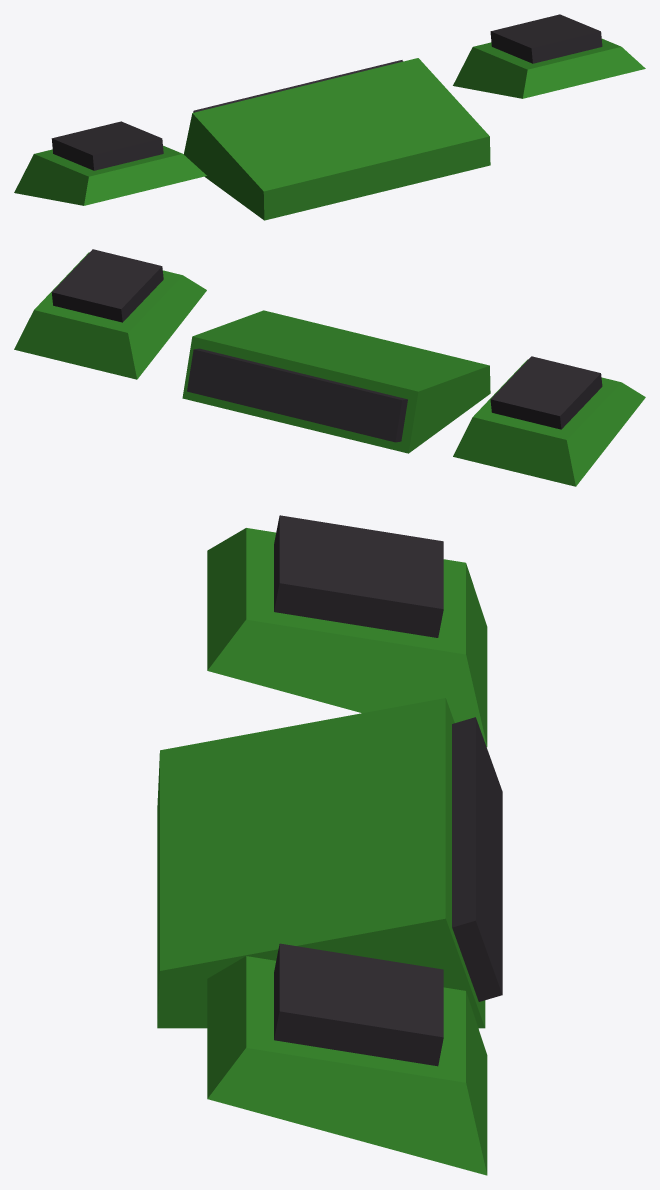
The model's file is Speed_Upgrade.glb.
3 views of the same model, one above another, from view 1: azimuth 30°, elevation 25°; view 2: azimuth 150°, elevation 25°; view 3: azimuth 270°, elevation 25° (orthographic). The views are drawn at different scales.
Visible parts, largest first — view 1: Speed Upgrade; view 2: Speed Upgrade; view 3: Speed Upgrade.
Part boxes in pixels (x1,y1,x2,y2): Speed Upgrade: (14,14,645,220); Speed Upgrade: (14,249,645,486); Speed Upgrade: (157,515,502,1175).
Size of the model in its own units: 0.2434 by 0.032 by 0.0647.
